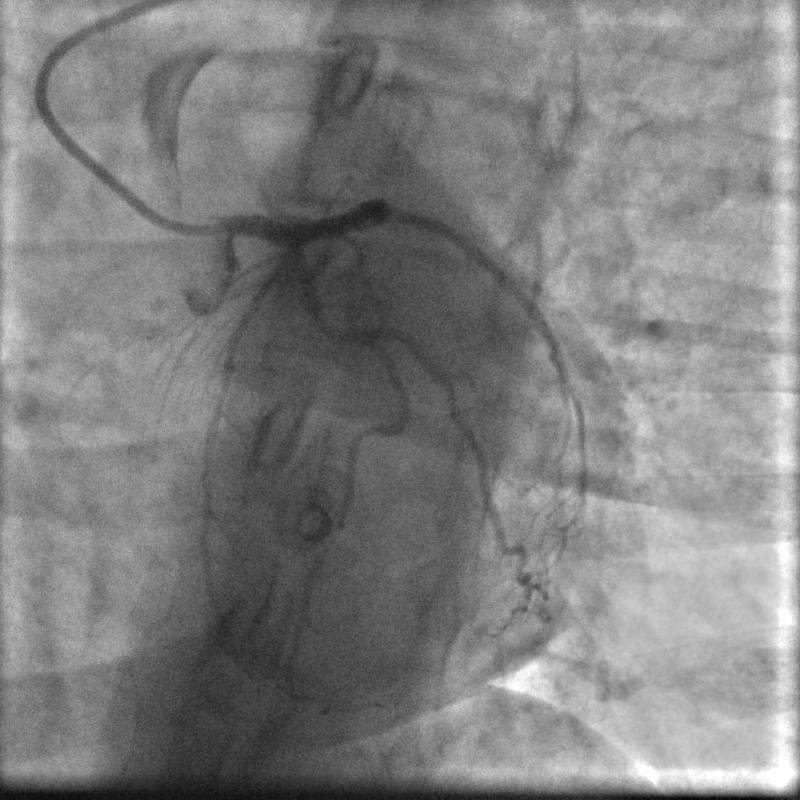Stenosis: (316, 318, 363, 353)
